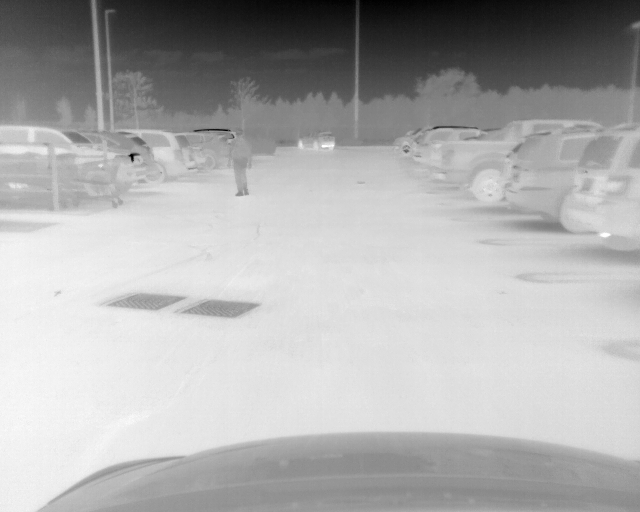car: (441, 115, 607, 203), (1, 123, 144, 215), (502, 129, 604, 233), (566, 129, 640, 256), (84, 130, 156, 198), (121, 127, 198, 186), (414, 125, 487, 175), (184, 129, 238, 175), (397, 124, 435, 156), (300, 131, 336, 152)
people: (227, 130, 252, 196)
